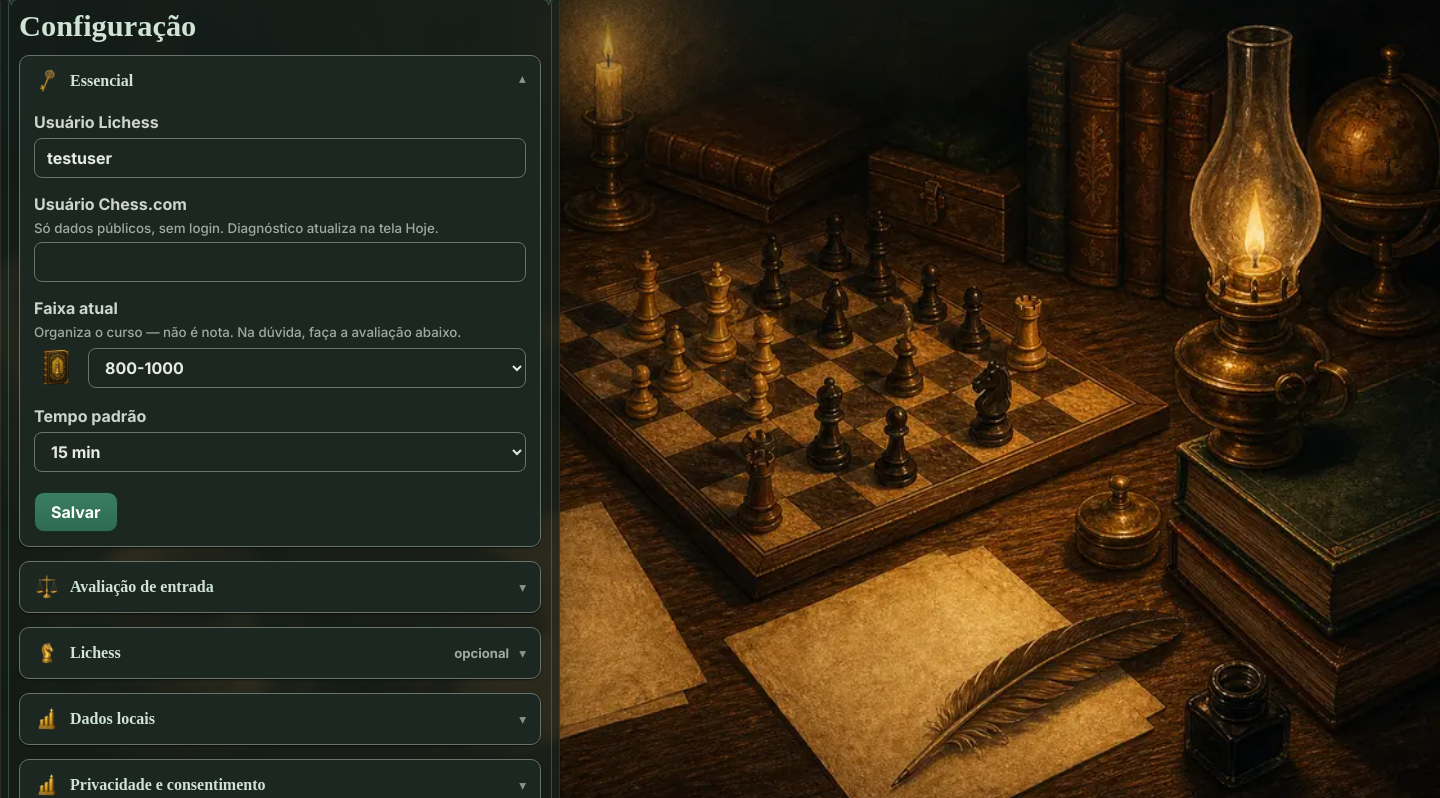
Scenario: Config — "Apagar tudo" inline confirmation › shows the inline confirm group when "Apagar tudo" is clicked
Click the heading "Dados locais": (94, 719) [34, 706, 155, 732]
(page scrolled)
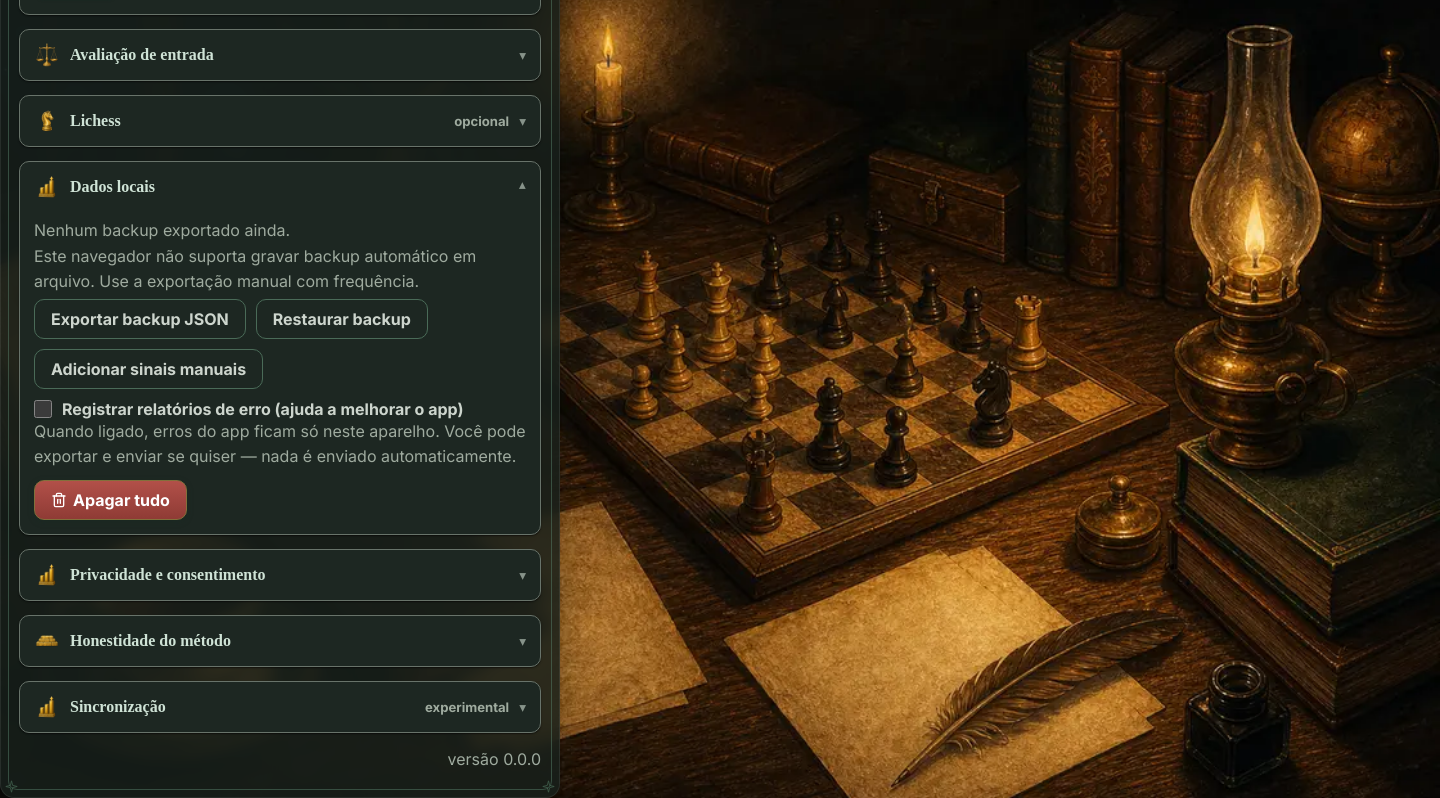
Click the button "Apagar tudo": (110, 500) [34, 480, 187, 520]
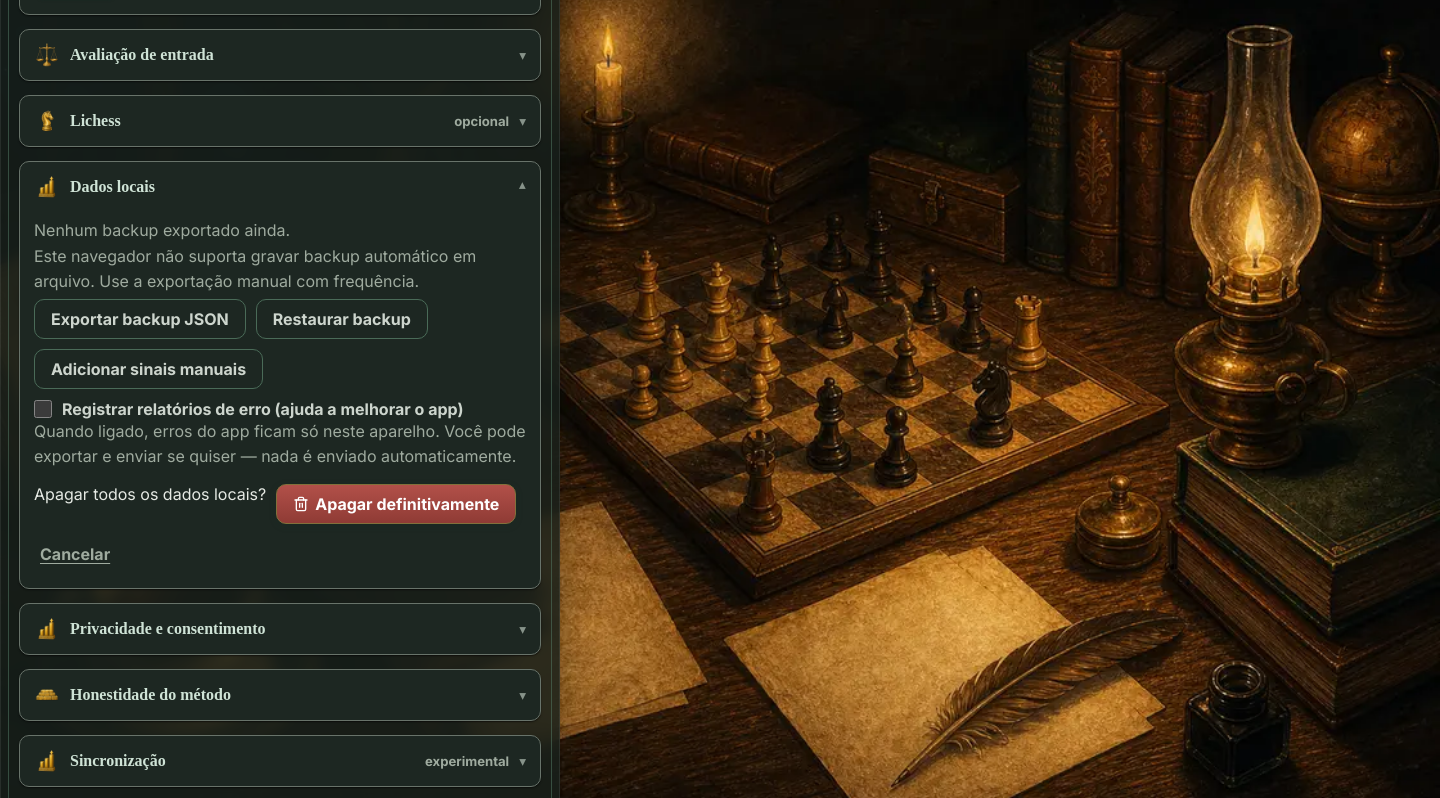
Expected: the text "Apagar todos os dados locais?" is shown, [34, 484, 266, 504]
Expected: the button "Apagar definitivamente" is shown, [276, 484, 516, 524]
Expected: the button with aria-label "Confirmar apagar tudo" is shown, [34, 484, 526, 574]
